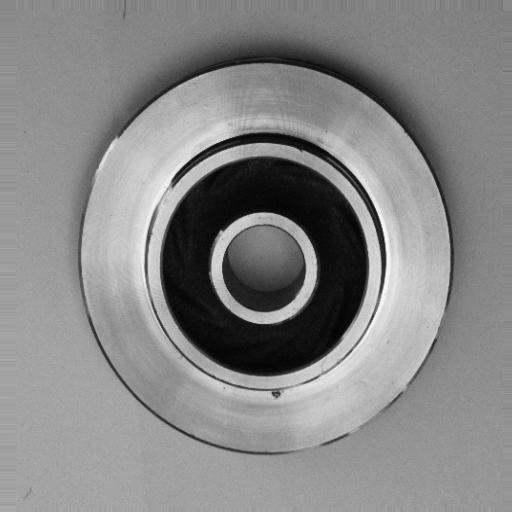crack: (262, 382, 291, 408)
scratch: (145, 172, 181, 245)
unpolished_casting: (77, 55, 452, 463)
